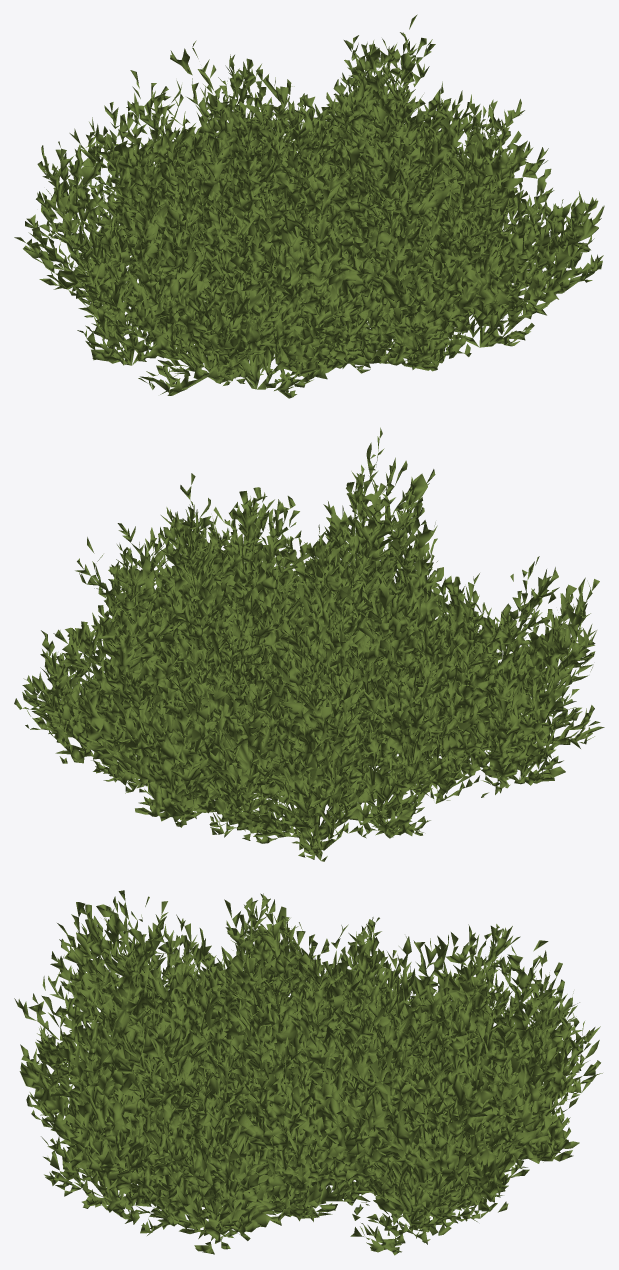
The model's file is watershrub.glb.
3 renders of one model, top to bottom at view 1: azimuth 30°, elevation 25°; view 2: azimuth 150°, elevation 25°; view 3: azimuth 270°, elevation 25°, orthographic. The views are drawn at different scales.
Size of the model in its own units: 1.88 by 0.9163 by 1.85.
1 material, 1 textured.
